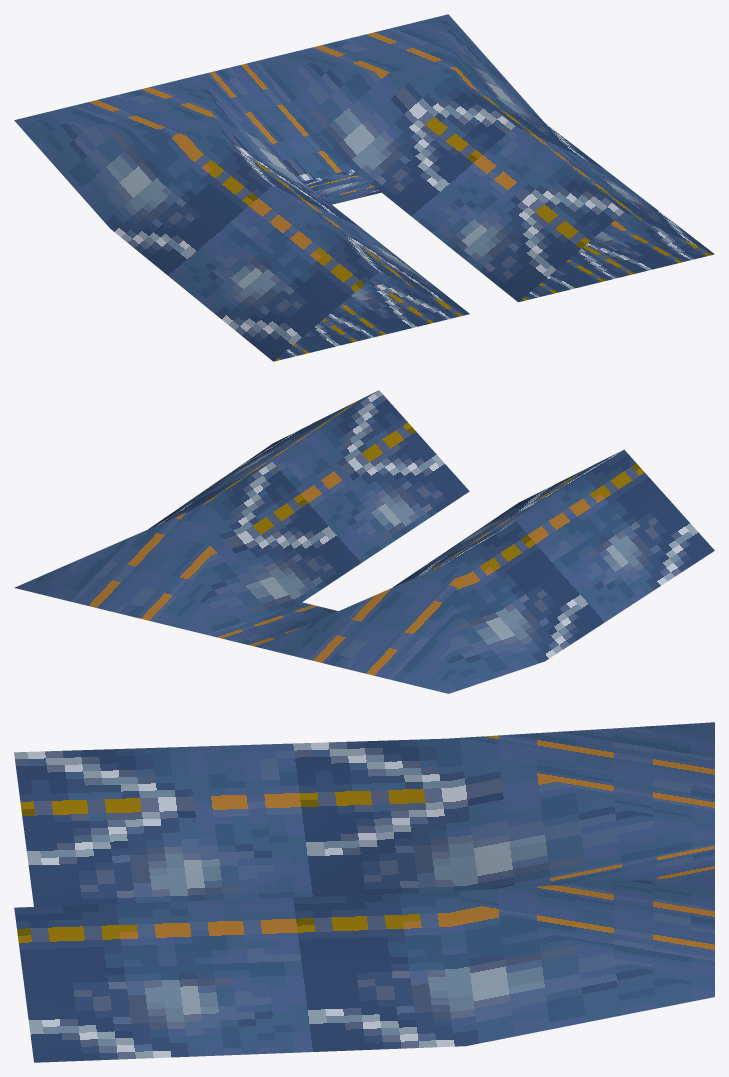
File: 2072pants000_r.gltf
The picture shows the model from 3 angles, top to bottom: view 1: azimuth 30°, elevation 25°; view 2: azimuth 150°, elevation 25°; view 3: azimuth 270°, elevation 25°; orthographic projection. The views are drawn at different scales.
Visible parts, largest first — view 1: 2072pants000_r; view 2: 2072pants000_r; view 3: 2072pants000_r.
Part boxes in pixels (bbox=[...]): 2072pants000_r: bbox=[14, 14, 714, 361]; 2072pants000_r: bbox=[14, 390, 714, 693]; 2072pants000_r: bbox=[14, 722, 714, 1062].
Bounding box in the file's own units: 0.7793 × 0.1667 × 0.8264.
1 material, 1 textured.
